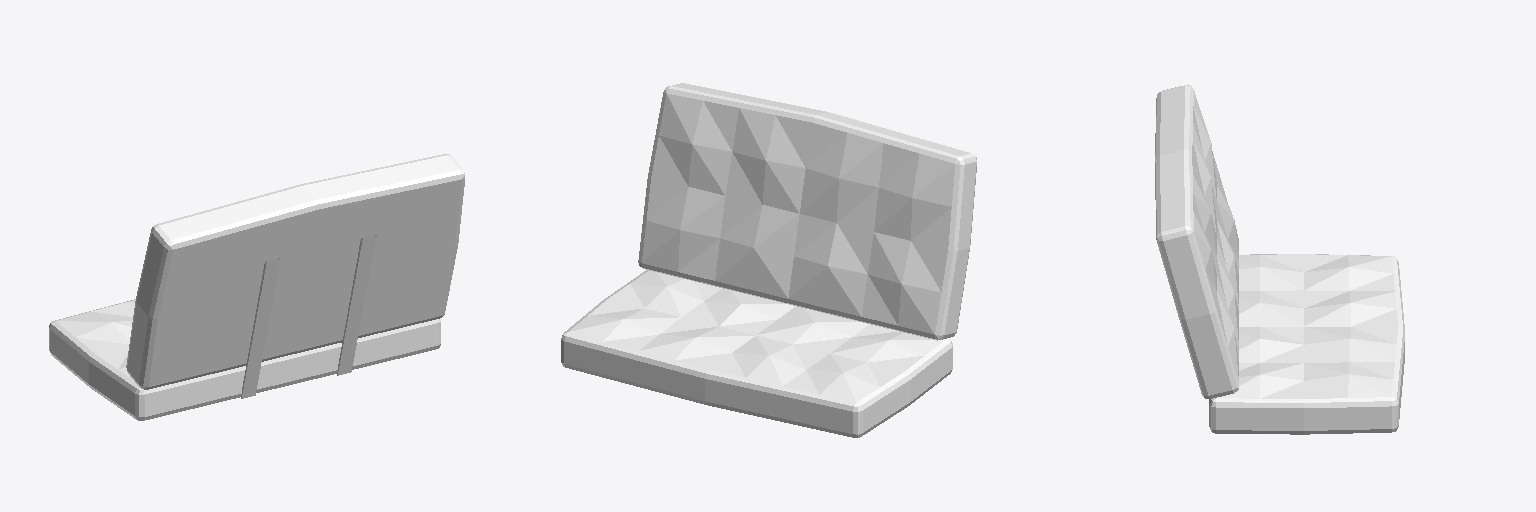
The model's file is SillonOK.obj.
3 views of the same model, side by side, from view 1: azimuth 30°, elevation 25°; view 2: azimuth 150°, elevation 25°; view 3: azimuth 270°, elevation 25° (orthographic).
Visible parts, largest first — view 1: SillonOK.obj; view 2: SillonOK.obj; view 3: SillonOK.obj.
Boxes of the visible parts, x1,y1,x2,y2 form: SillonOK.obj: [49, 154, 464, 420]; SillonOK.obj: [561, 83, 976, 437]; SillonOK.obj: [1155, 85, 1404, 434].
Bounding box in the file's own units: 1.01 × 0.6637 × 0.7116.